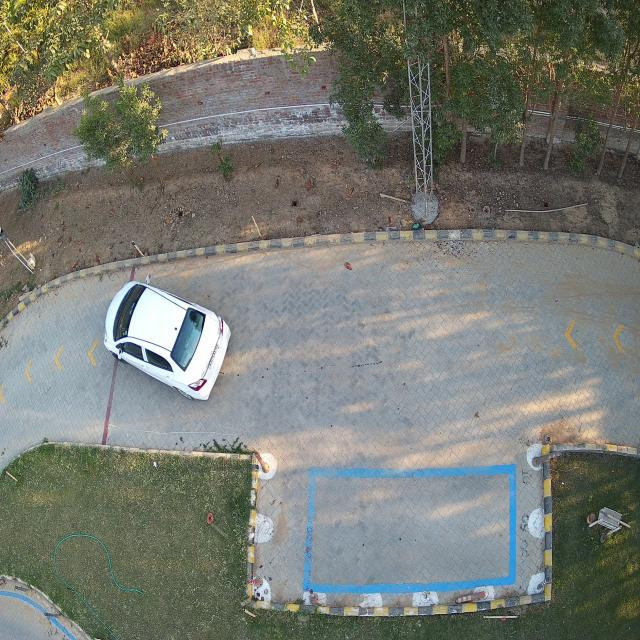car: (102, 277, 230, 400)
